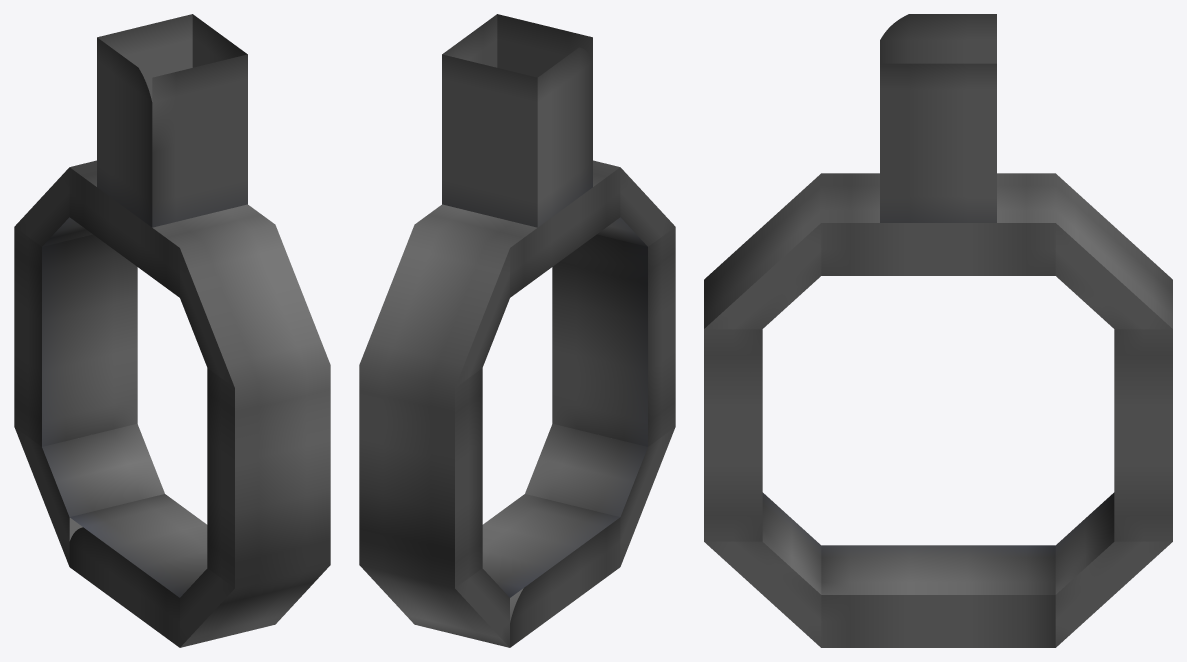
Rendered from pepperbox_trigger.obj.
3 views of the same model, side by side, from view 1: azimuth 30°, elevation 25°; view 2: azimuth 150°, elevation 25°; view 3: azimuth 270°, elevation 25° (orthographic). The views are drawn at different scales.
Visible parts, largest first — view 1: trigger; view 2: trigger; view 3: trigger.
Part boxes in pixels (x1=…): trigger: x1=14, y1=14, x2=330, y2=647; trigger: x1=359, y1=14, x2=675, y2=647; trigger: x1=704, y1=14, x2=1172, y2=647.
Bounding box in the file's own units: 0.25 × 1.38 × 1.
